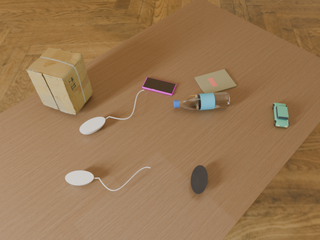book: (195, 69, 237, 93)
bottle: (174, 92, 230, 110)
box: (26, 47, 93, 115)
mouse: (191, 165, 208, 194), (80, 117, 105, 134), (65, 171, 94, 185)
phone: (142, 77, 176, 95)
toy_car: (272, 103, 289, 127)
